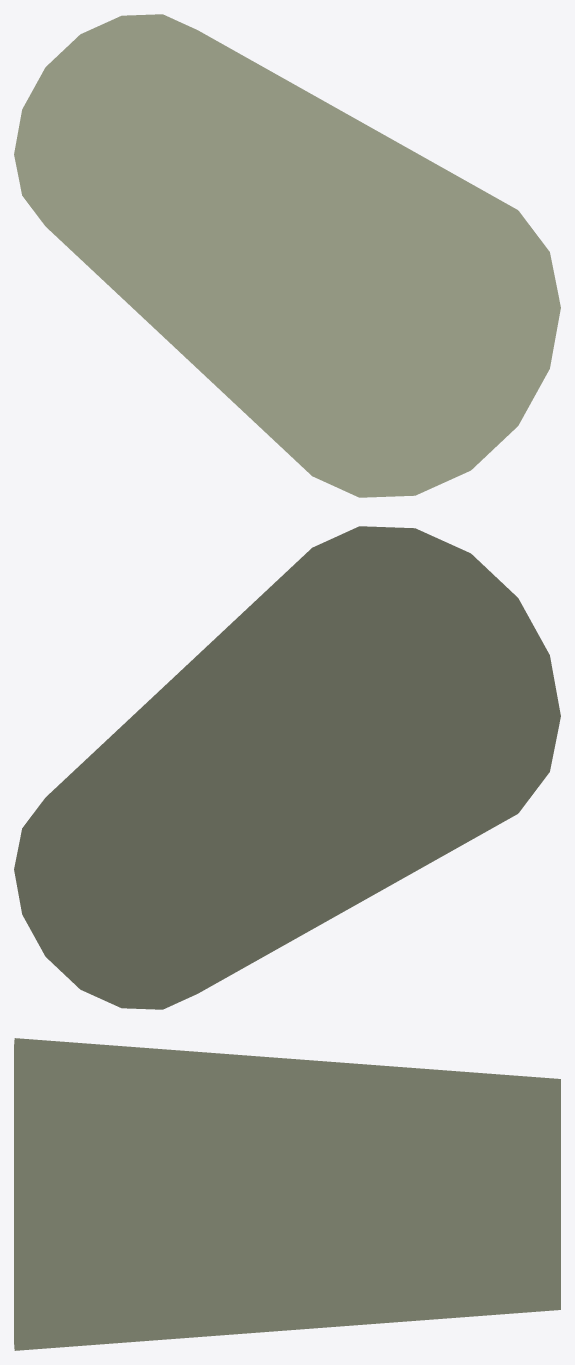
Rendered from solo_cup.dae.
3 renders of one model, top to bottom at view 1: azimuth 30°, elevation 25°; view 2: azimuth 150°, elevation 25°; view 3: azimuth 270°, elevation 25°, orthographic. The views are drawn at different scales.
Parts seen in each view (by area): view 1: Cylinder2-0; view 2: Cylinder2-0; view 3: Cylinder2-0.
Part boxes in pixels (left/top/right/bottom): Cylinder2-0: left=14, top=14, right=560, bottom=497; Cylinder2-0: left=14, top=526, right=560, bottom=1009; Cylinder2-0: left=14, top=1038, right=560, bottom=1350.
Bounding box in the file's own units: 0.1118 × 0.1118 × 0.1952.
